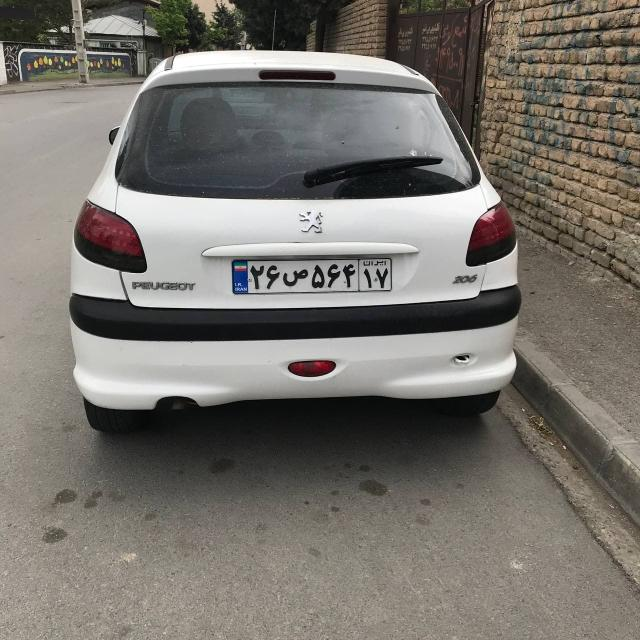Plates: (232, 258, 391, 293)
